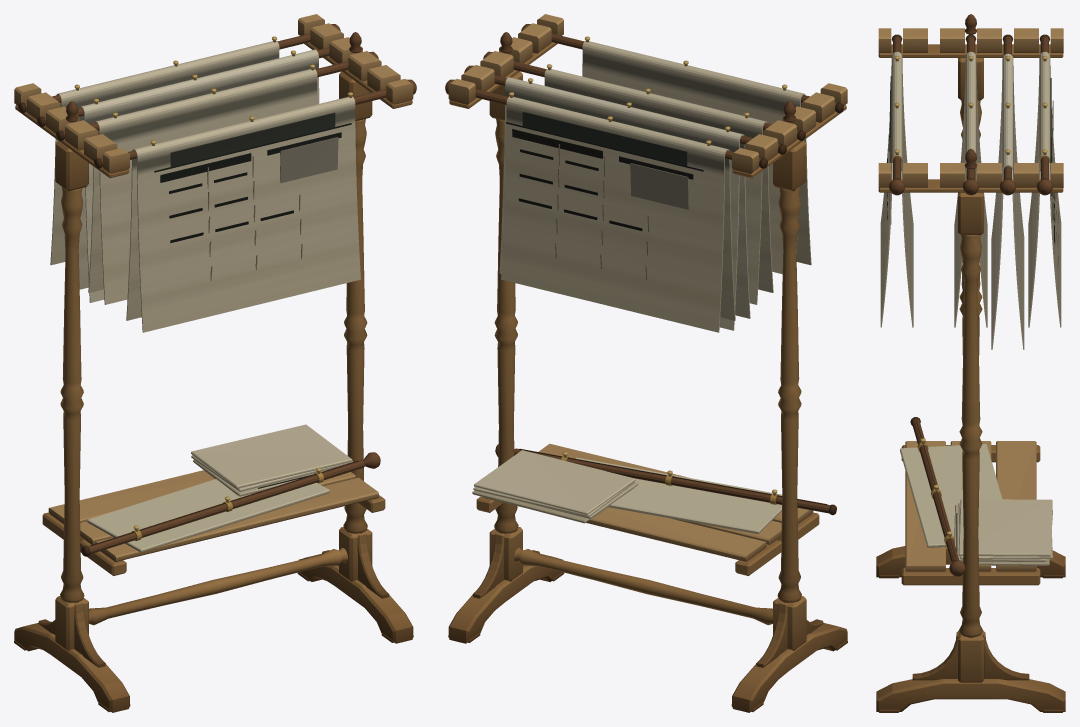
The model's file is newspaper_rack.glb.
3 renders of one model, left to right at view 1: azimuth 30°, elevation 25°; view 2: azimuth 150°, elevation 25°; view 3: azimuth 270°, elevation 25°, orthographic. The views are drawn at different scales.
Visible parts, largest first — view 1: newspaper_rack; view 2: newspaper_rack; view 3: newspaper_rack.
Boxes of the visible parts, x1,y1,x2,y2 form: newspaper_rack: (14,14,416,712); newspaper_rack: (445,14,847,712); newspaper_rack: (876,14,1065,712).
Bounding box in the file's own units: 0.7854 × 1.34 × 0.41.
